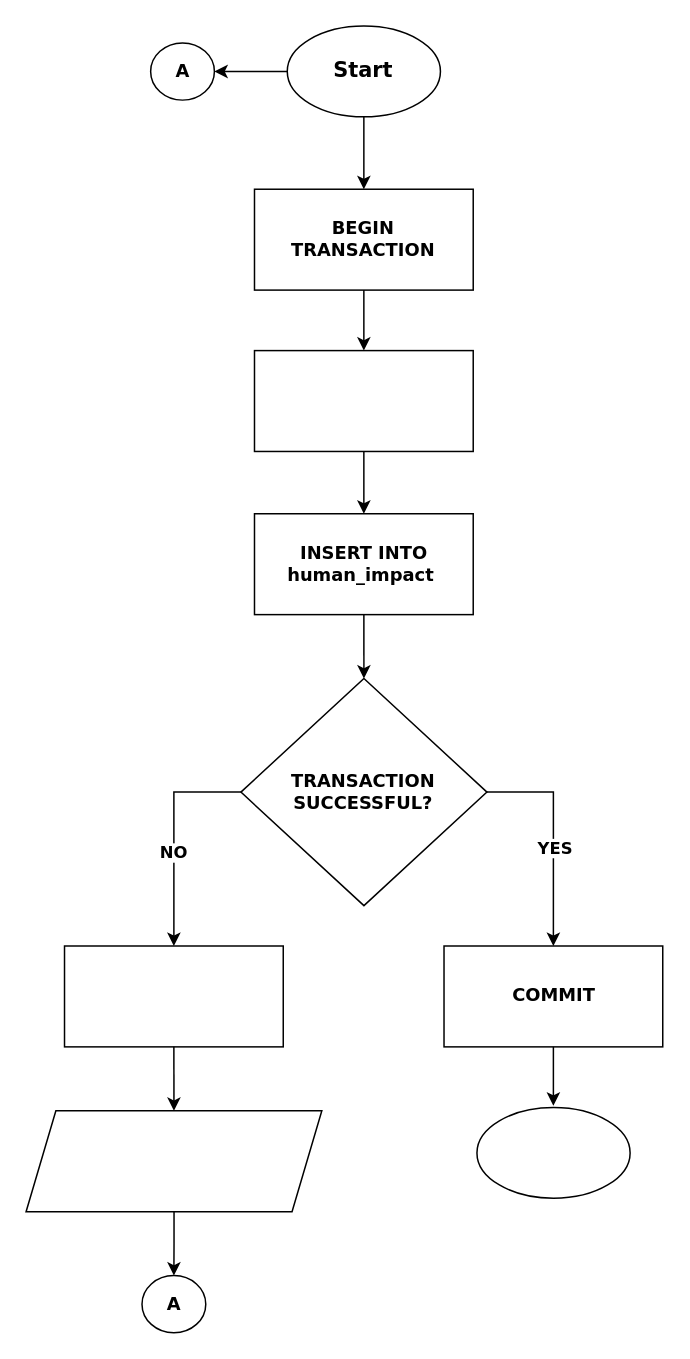
Some shapes in this 690 by 1359 pixel diagram are drawn without their labels. The centre of each missing label's shape, as x and y in pixels:
Display message " Transaction failed and was rolled back.": point 173,1160
End: point 552,1152
INSERT INTO disaster_event: point 363,400
ROLLBACK: point 173,996
